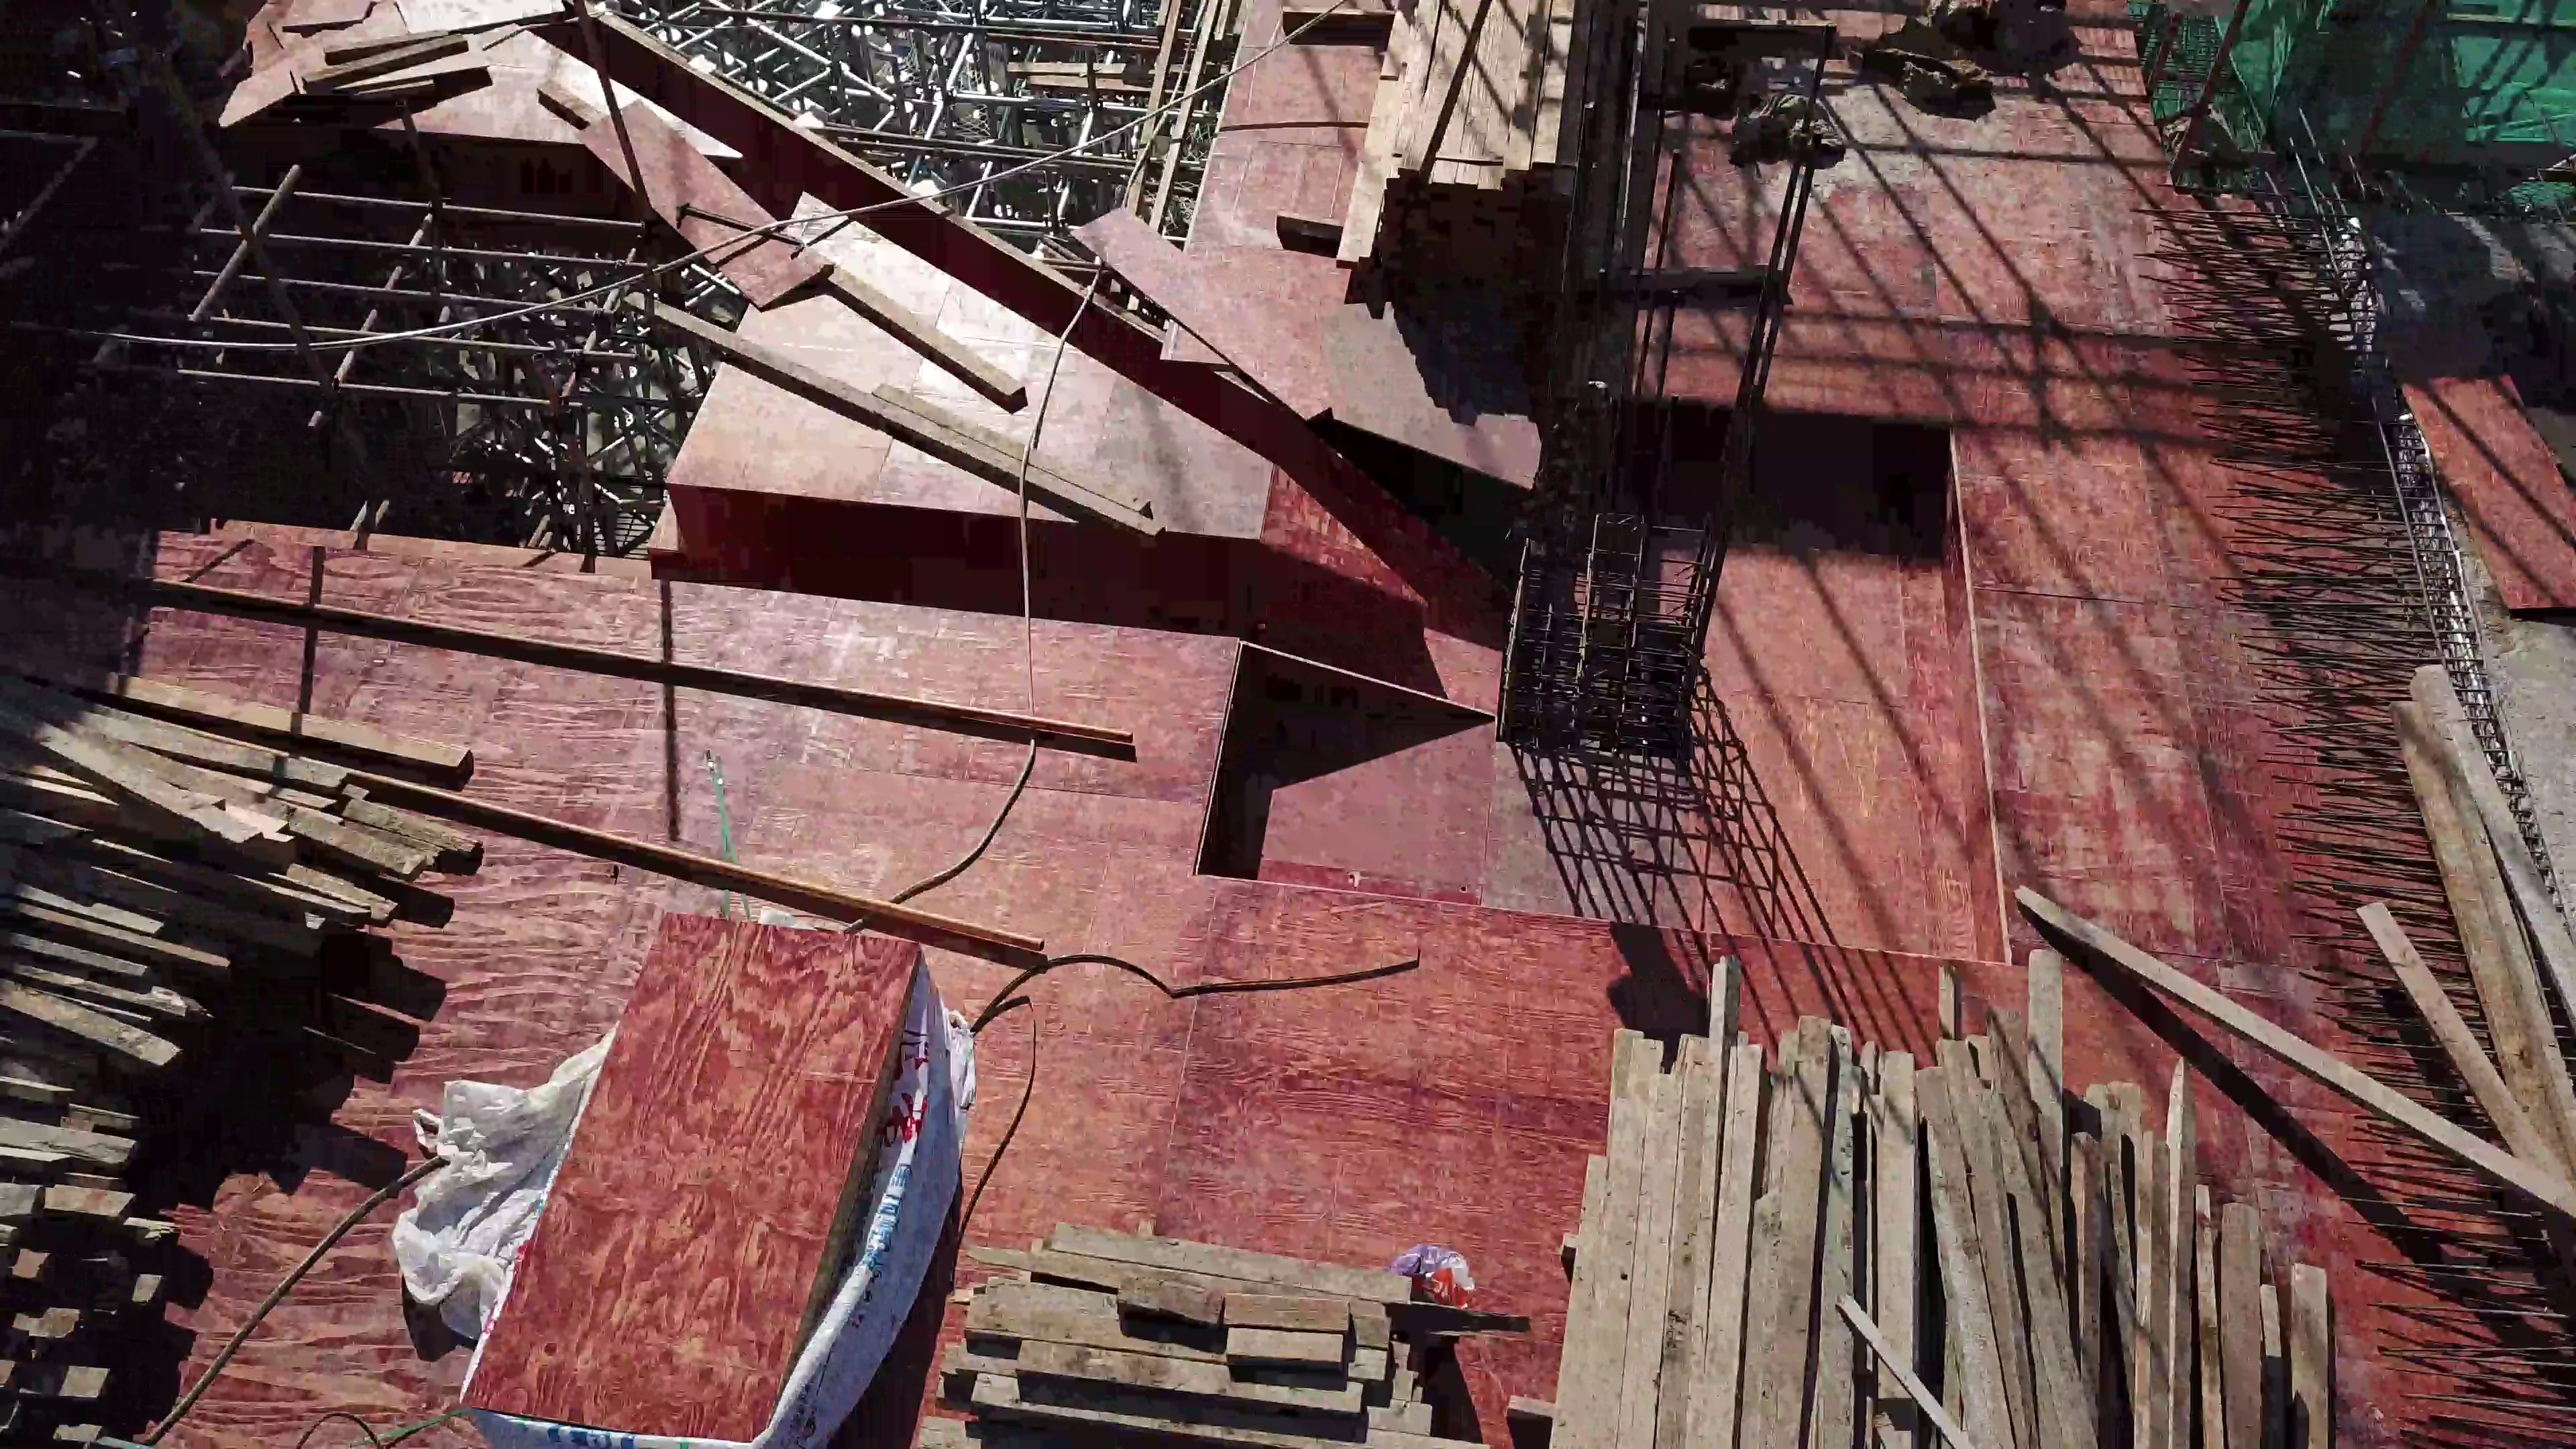board: (464, 913, 966, 1449)
wood: (0, 630, 487, 1447), (1555, 1024, 2330, 1449), (941, 1219, 1449, 1449), (1330, 2, 1585, 324)
